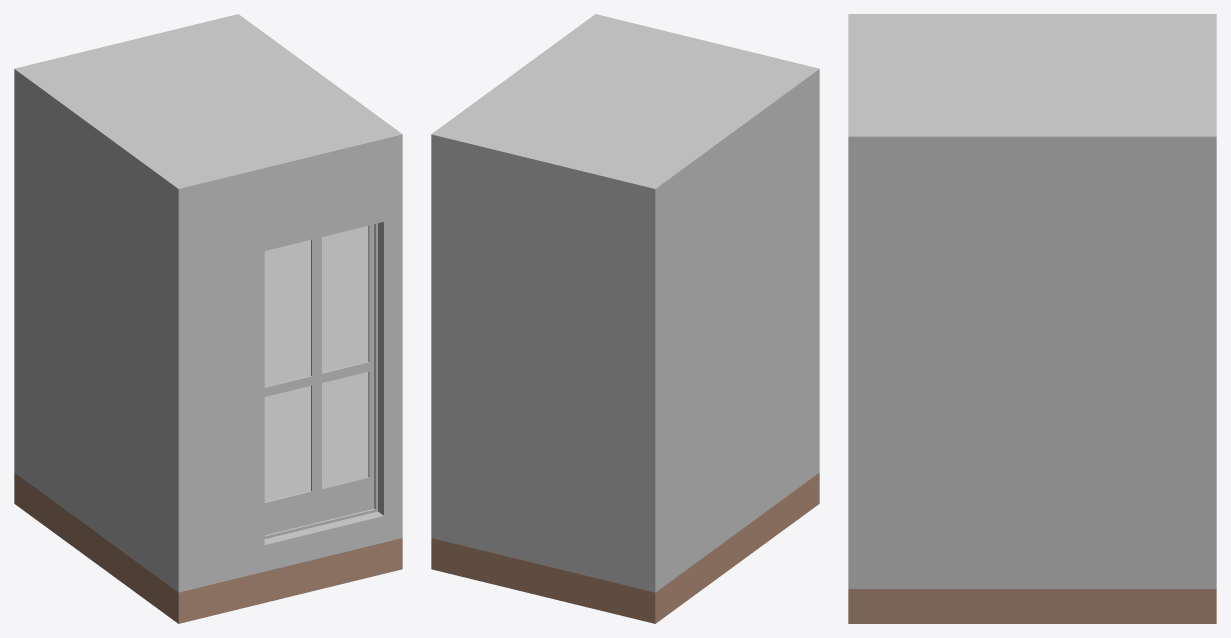
Rendered from room_bathroom.glb.
The picture shows the model from 3 angles, left to right: view 1: azimuth 30°, elevation 25°; view 2: azimuth 150°, elevation 25°; view 3: azimuth 270°, elevation 25°; orthographic projection. The views are drawn at different scales.
Size of the model in its own units: 1.5 by 2.78 by 1.91.
